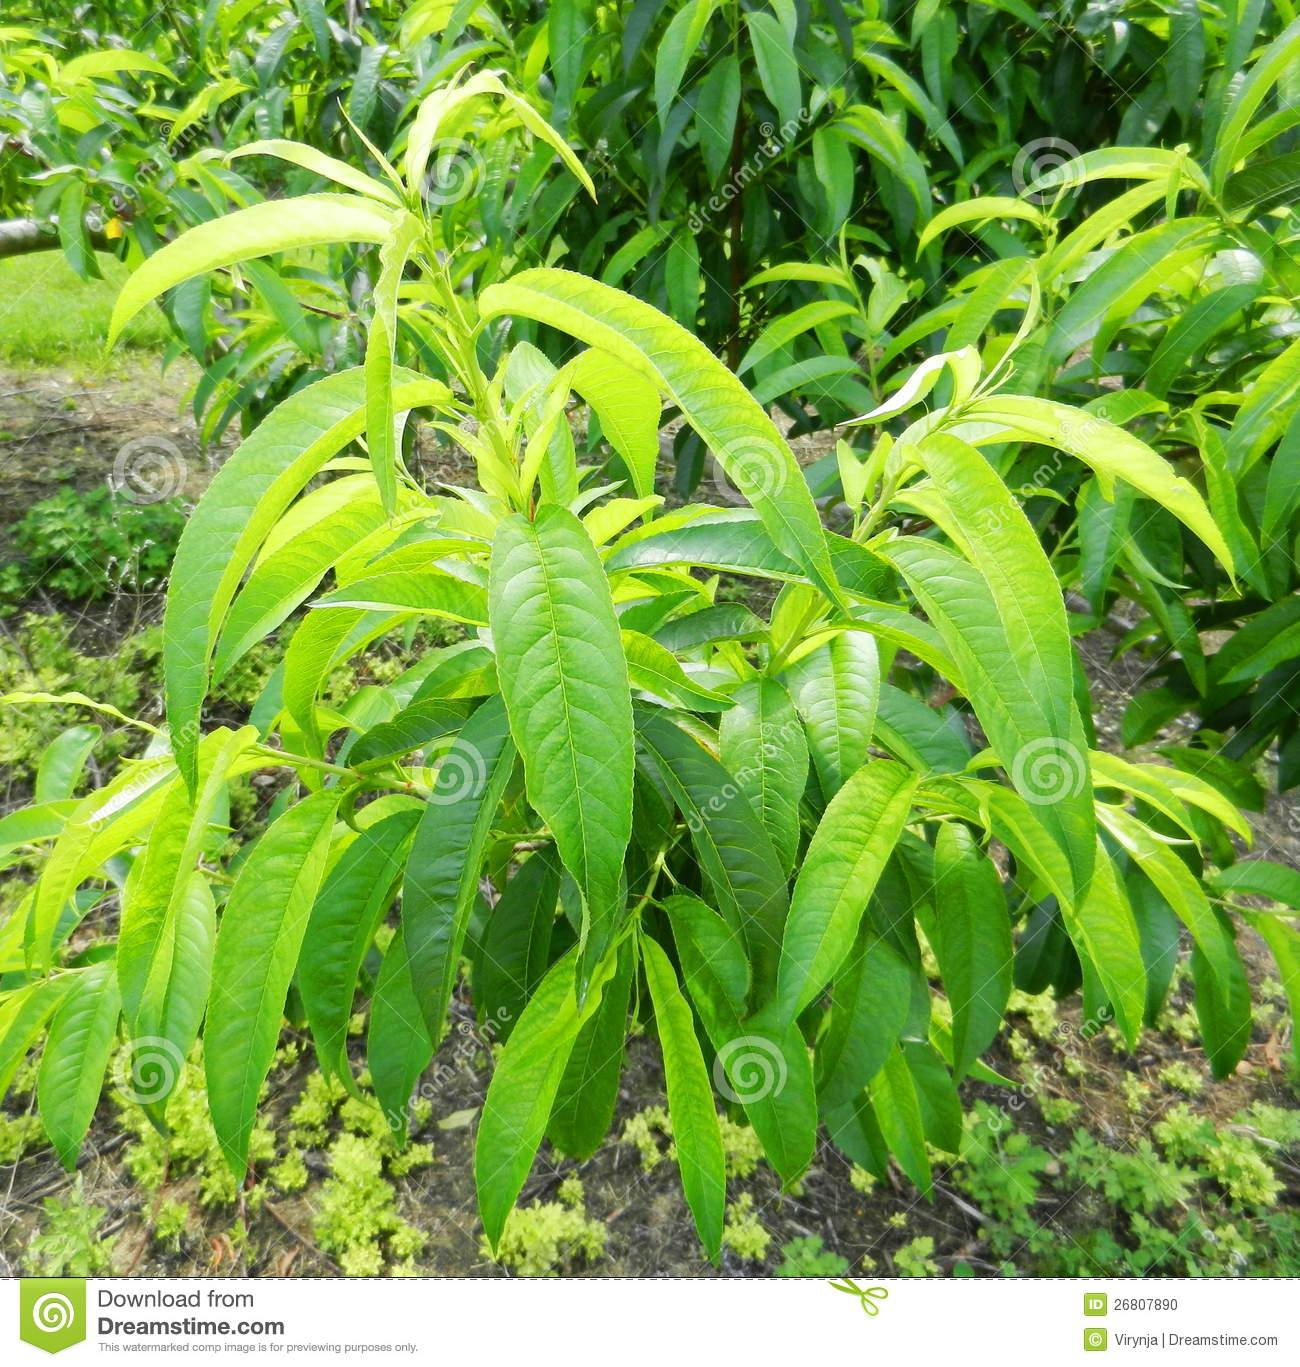Peach leaf: (472, 259, 845, 614), (162, 362, 459, 795), (200, 776, 391, 1202), (477, 483, 631, 998), (884, 542, 1096, 902), (459, 922, 638, 1284), (659, 884, 819, 1191), (914, 426, 1066, 743), (632, 715, 796, 995), (769, 756, 928, 1037), (406, 688, 529, 1048), (634, 902, 731, 1274), (922, 818, 1019, 1097), (28, 957, 131, 1199), (618, 521, 905, 601)
